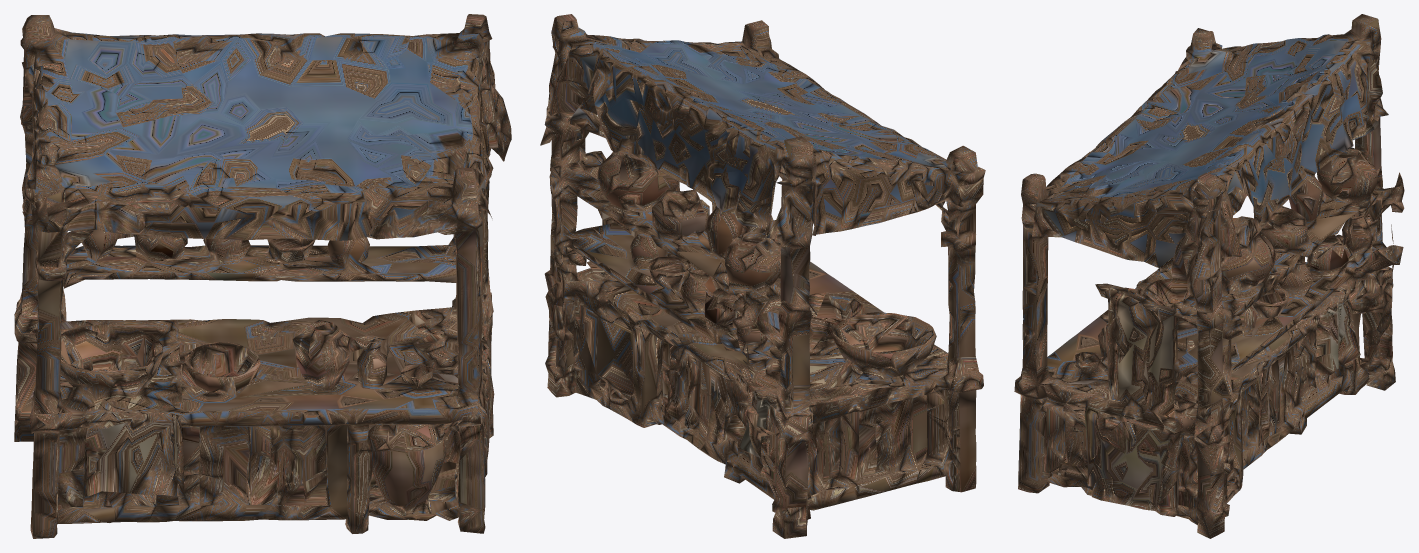
File: pottery-market-stall-pixal3d.glb
The picture shows the model from 3 angles, left to right: view 1: azimuth 30°, elevation 25°; view 2: azimuth 150°, elevation 25°; view 3: azimuth 270°, elevation 25°; orthographic projection. The views are drawn at different scales.
Parts seen in each view (by area): view 1: geometry_0; view 2: geometry_0; view 3: geometry_0.
Boxes of the visible parts, x1=… form: geometry_0: x1=14, y1=14, x2=511, y2=538; geometry_0: x1=540, y1=14, x2=985, y2=538; geometry_0: x1=1014, y1=14, x2=1404, y2=538.
Bounding box in the file's own units: 3.32 × 2.8 × 2.69.
1 material, 1 textured.
